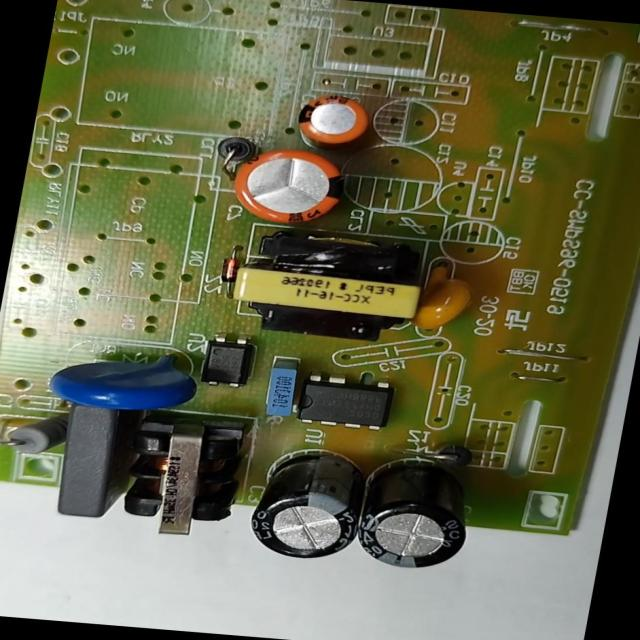Cap1: (211, 138, 367, 237)
Cap2: (285, 90, 379, 152)
Cap3: (236, 442, 373, 566)
Cap4: (346, 454, 482, 576)
MOSFET: (288, 369, 403, 434)
Mov: (43, 341, 206, 419)
Resistor: (1, 410, 68, 460)
Transformer: (216, 219, 436, 348), (107, 401, 260, 543)
